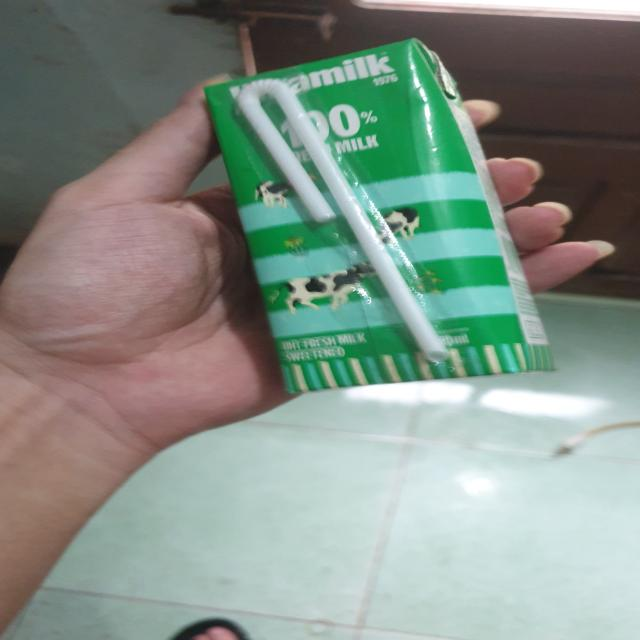Vina: (195, 35, 564, 400)
